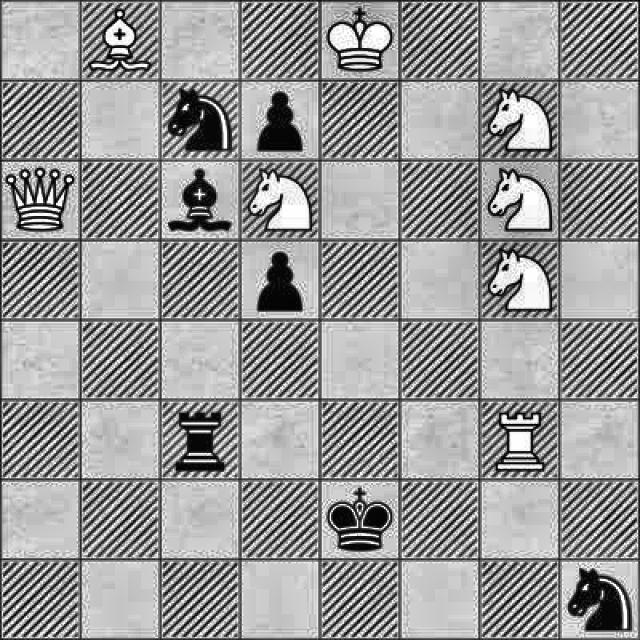Black Knight: (564, 562, 635, 640), (168, 82, 232, 159)
black bishop: (164, 164, 237, 235)
black king: (328, 481, 397, 562)
black pawn: (242, 244, 311, 313), (247, 91, 316, 155)
black rook: (168, 410, 234, 474)
white bishop: (86, 6, 154, 74)
white king: (324, 4, 394, 80)
white queen: (3, 161, 78, 237)
white rook: (487, 409, 556, 477)
whiteknight: (482, 164, 560, 237), (483, 246, 560, 310), (489, 85, 554, 156), (248, 169, 314, 236)
